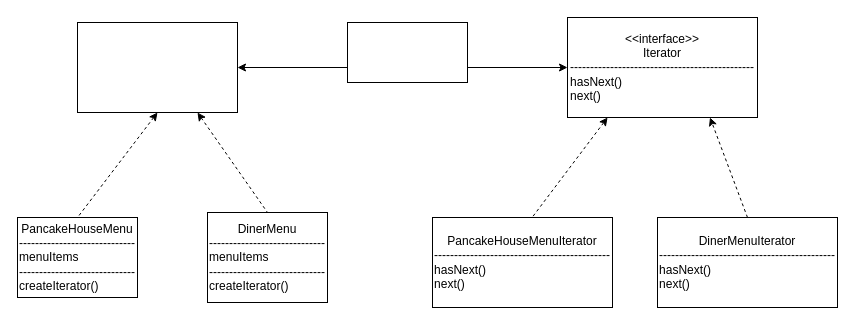
This 855x325 diagram has some shape labels left out. The centre of each missing label's shape, as x and y in pixels:
"<<interface>> Menu --------------------------------------- createIterator()" goes at (157,67).
"Waitress ----------------------------- printMenu()" goes at (407,52).
